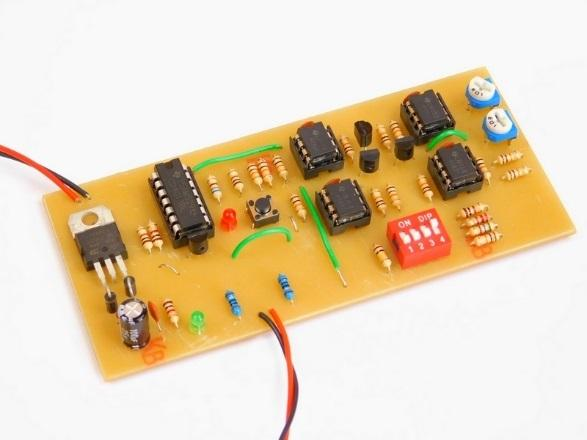capacitor: (116, 298, 153, 347)
resistor: (373, 243, 393, 272), (290, 194, 310, 220), (277, 273, 295, 301), (471, 231, 502, 247), (271, 153, 289, 179), (225, 291, 242, 318), (163, 299, 180, 326), (371, 186, 388, 213), (416, 175, 435, 199), (147, 221, 164, 247), (207, 175, 223, 202), (226, 167, 244, 191), (137, 226, 154, 251), (258, 159, 273, 184), (476, 155, 491, 180), (386, 186, 403, 208), (375, 124, 392, 146), (466, 223, 497, 235), (339, 135, 355, 158), (457, 203, 487, 215), (496, 151, 523, 164), (502, 168, 531, 180), (389, 121, 405, 140), (248, 163, 262, 184), (463, 217, 491, 227)
